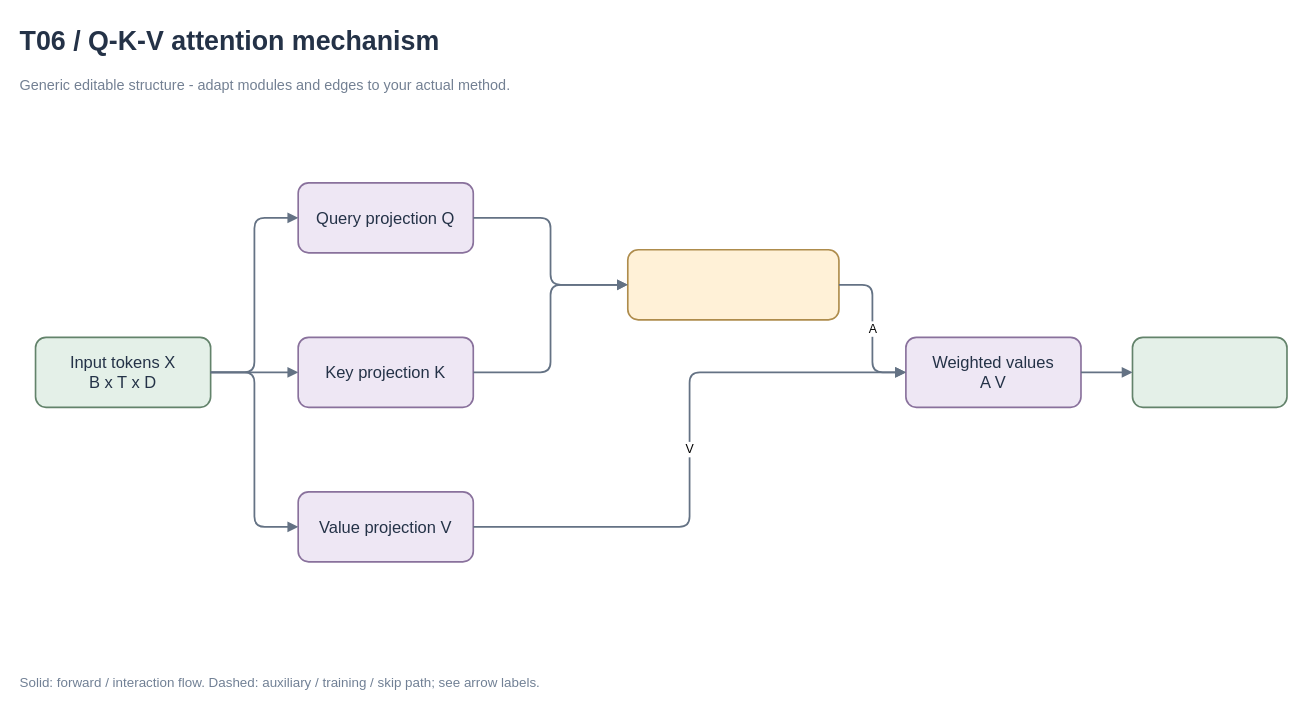
Some shapes in this 1305 by 716 pixel diagram are drawn without their labels. The shapes that lost their labels are listed below. From the top down, each one's centre as x and y in pixels, then its label:
At [732,284]: "QK^T / sqrt(d) softmax over keys".
At [1209,372]: "Output projection".
